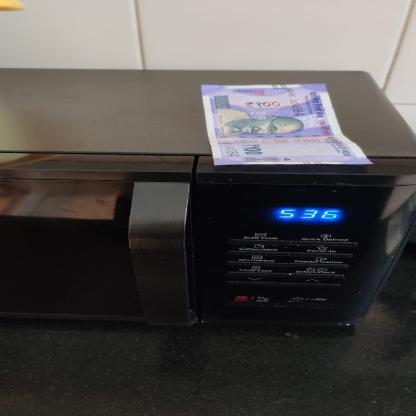New100Front: (196, 82, 377, 167)
